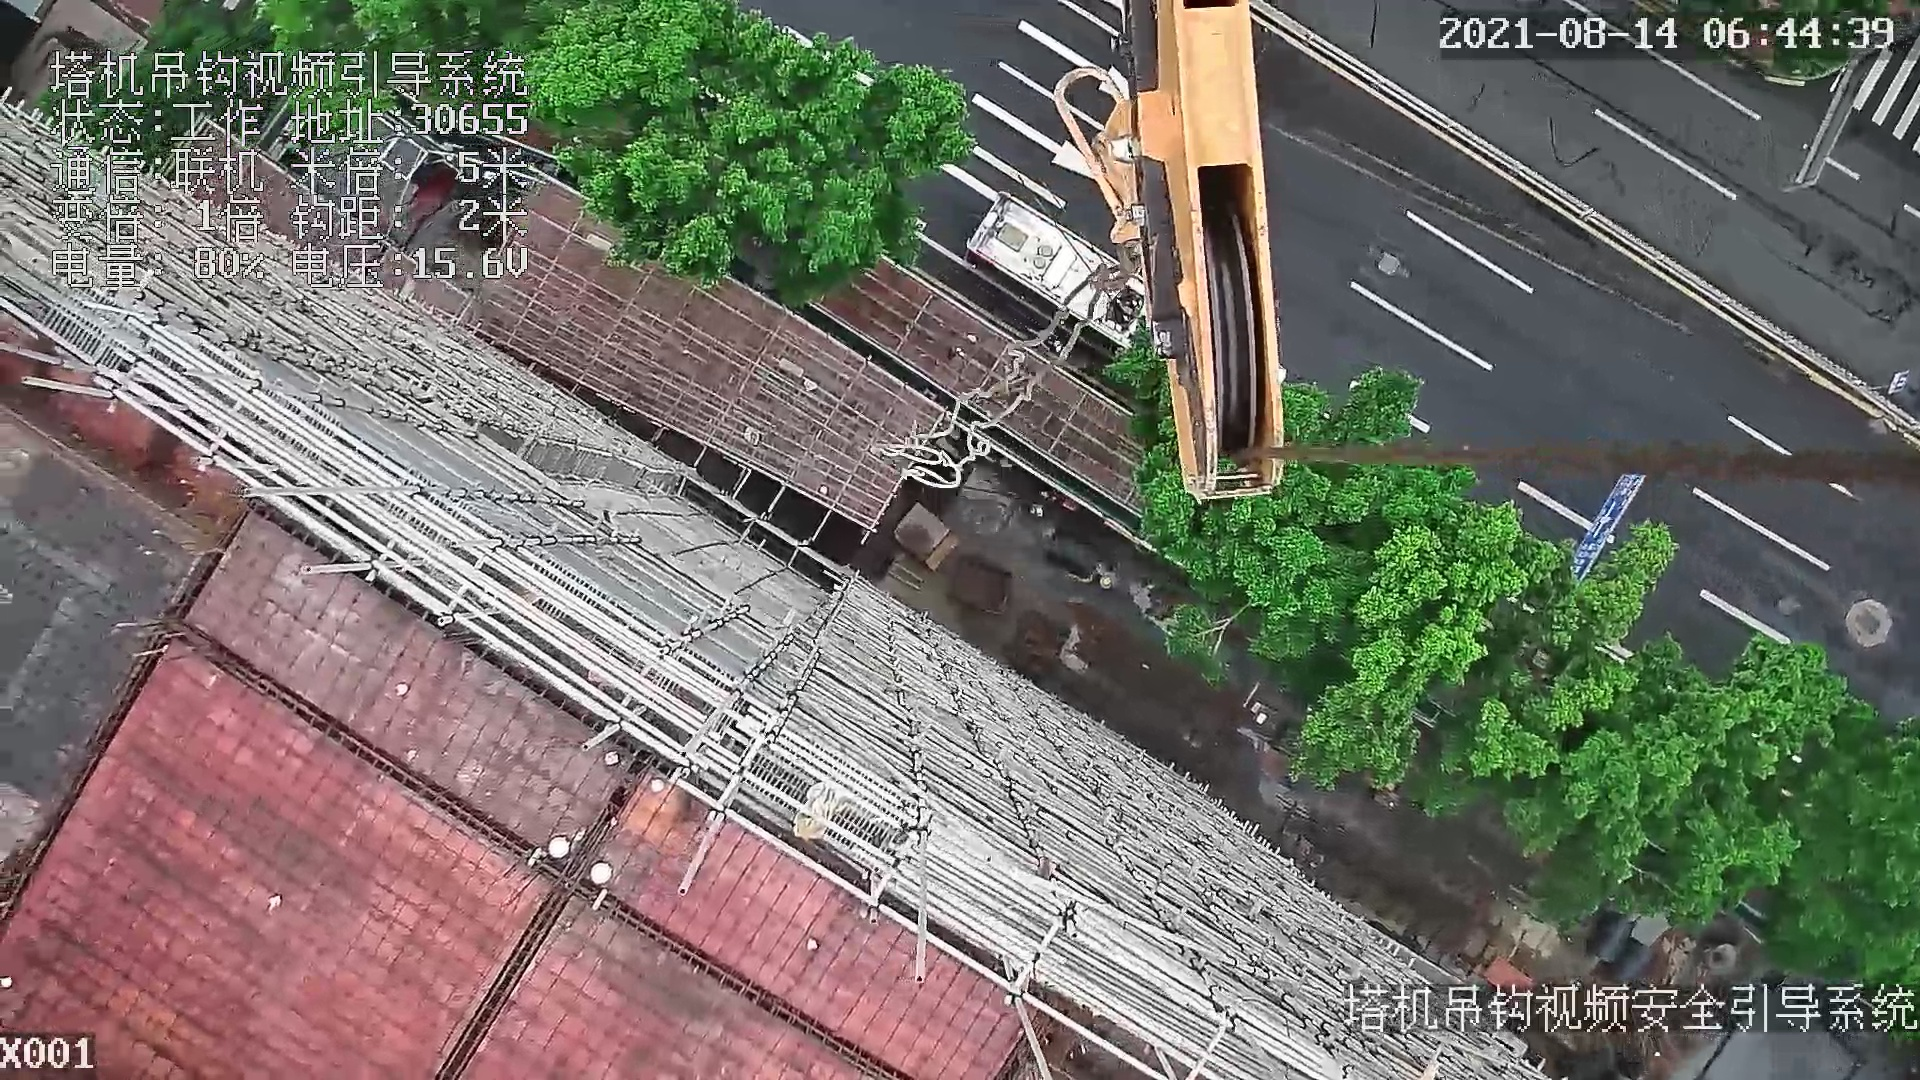hook: (1042, 5, 1294, 498)
